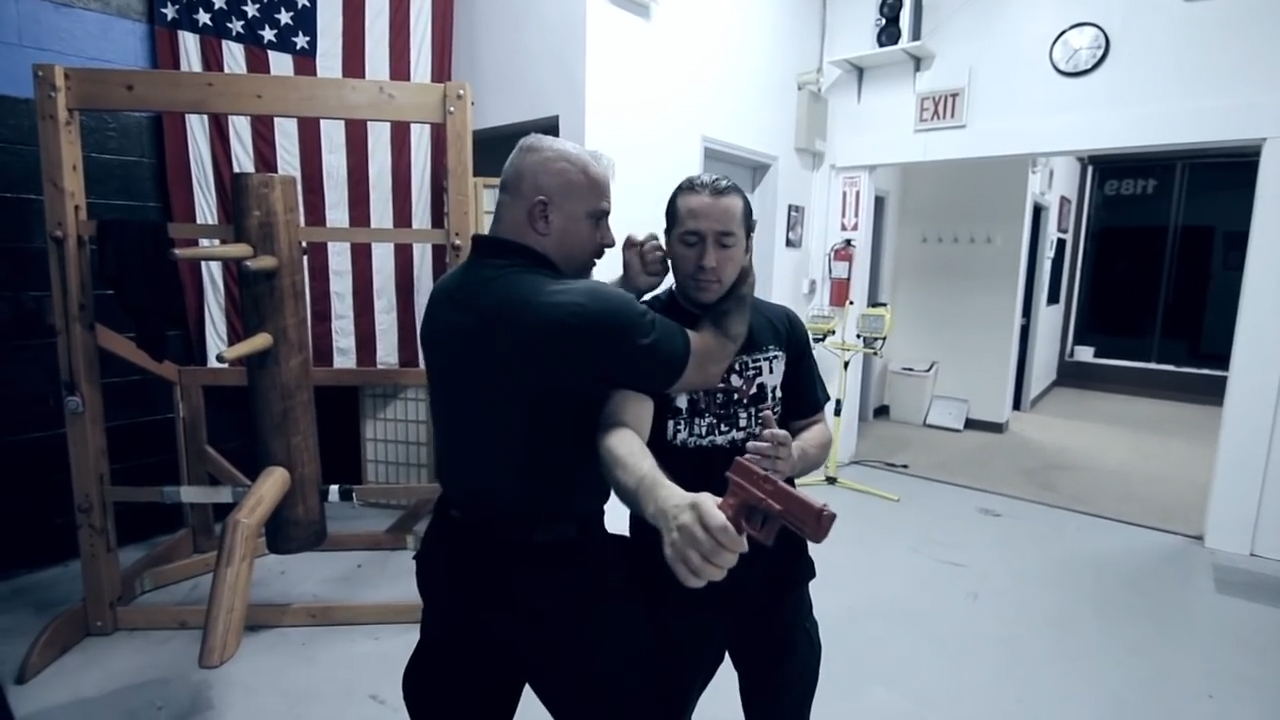pistol: (715, 454, 839, 549)
